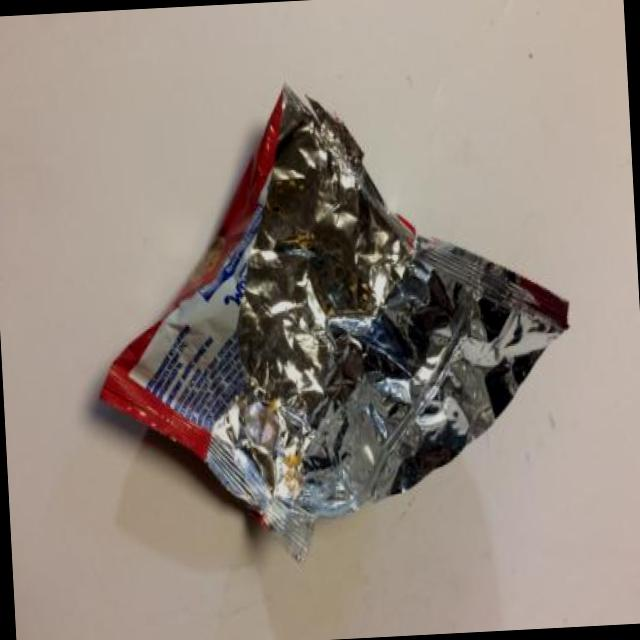kim_loai: (204, 95, 568, 558)
